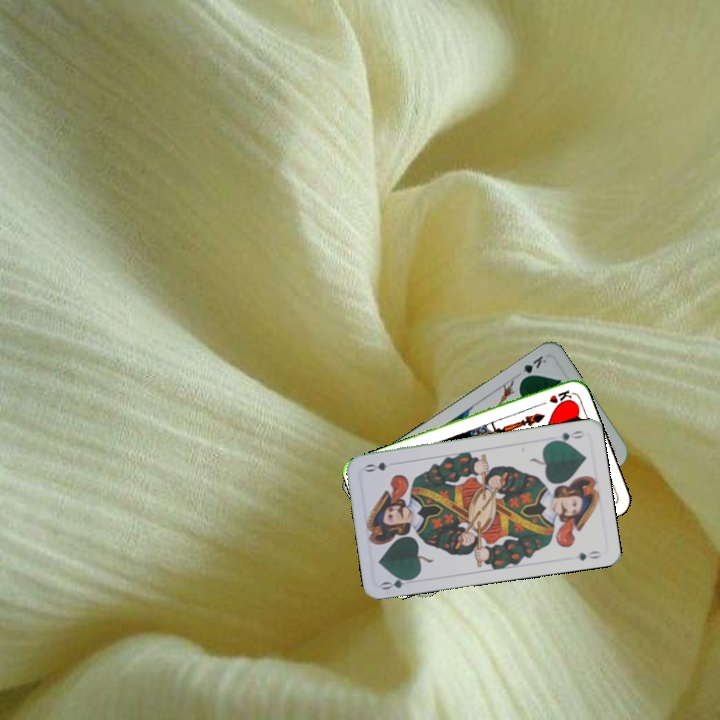GK: (516, 351, 549, 383)
GO: (377, 572, 417, 592), (547, 426, 586, 446)
HK: (533, 386, 573, 409)
